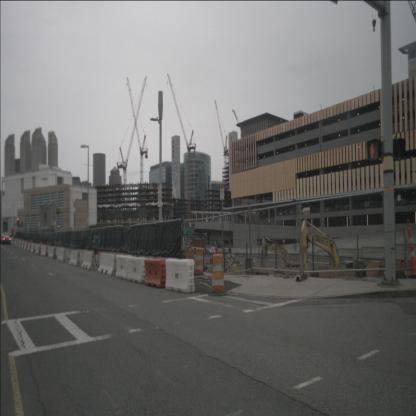barrier: (165, 258, 195, 294), (144, 256, 166, 288), (127, 254, 147, 284), (115, 254, 133, 282), (97, 251, 116, 277), (81, 250, 97, 271), (69, 249, 82, 267), (57, 247, 68, 263), (48, 245, 56, 259), (40, 245, 47, 256), (34, 244, 40, 253), (27, 241, 31, 251), (30, 243, 34, 252), (21, 240, 24, 249), (24, 241, 27, 250), (16, 239, 19, 247), (18, 239, 21, 247), (14, 238, 17, 245)
cone: (209, 250, 229, 296), (407, 216, 415, 280), (194, 247, 205, 277), (187, 247, 195, 275), (54, 246, 57, 260), (39, 244, 42, 256), (46, 245, 48, 256)
